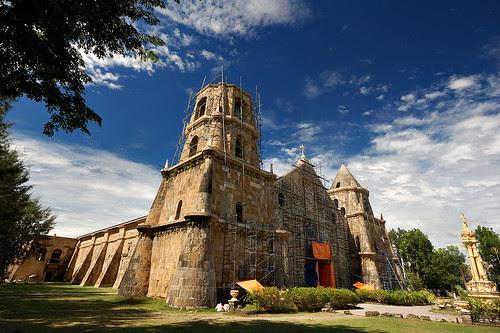Miagao Church: (143, 61, 409, 296)
Under Construction: (171, 64, 266, 169), (284, 157, 351, 289), (224, 212, 282, 299), (364, 212, 406, 293)
